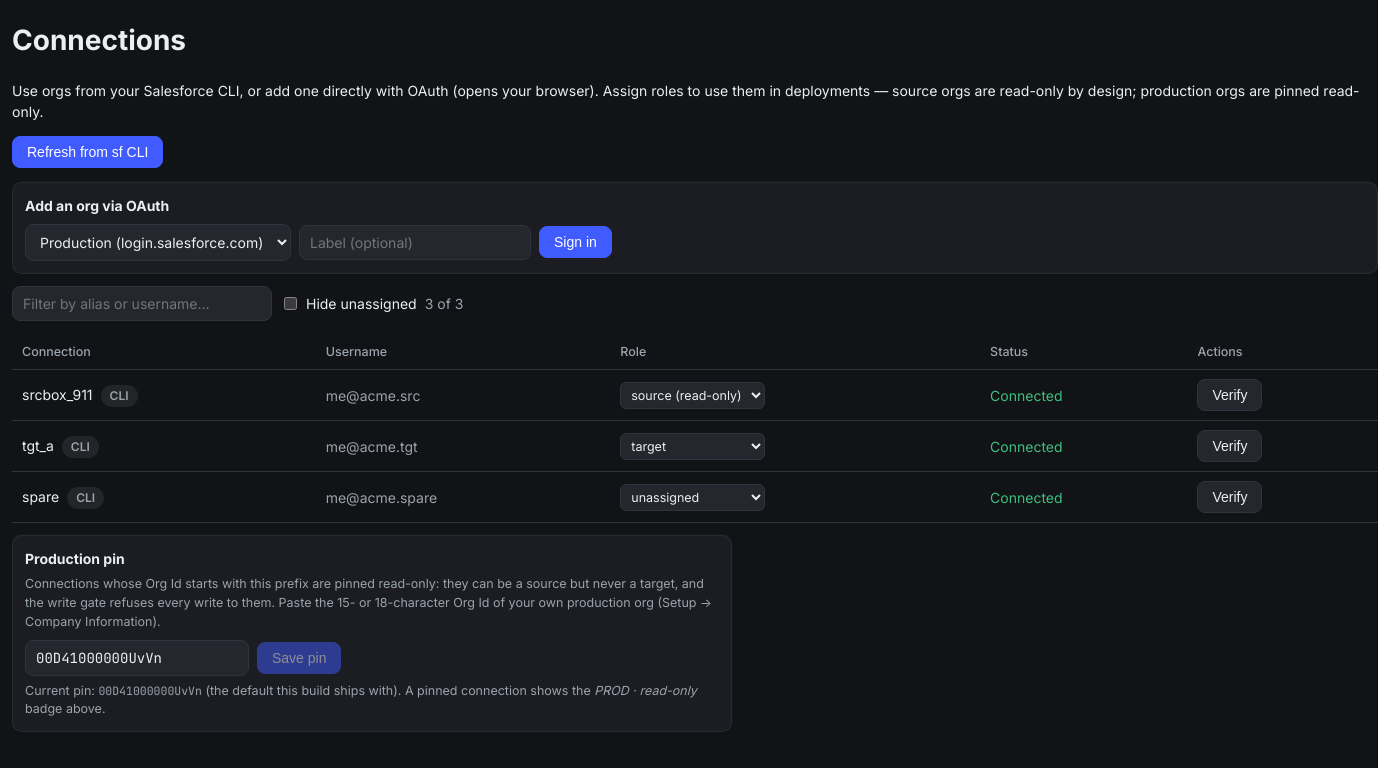
Test: Connections when the Salesforce CLI is missing › filters the list by alias or username and can hide unassigned rows
Check: the text "spare" is shown, box [22, 488, 59, 505]
Check: the text "3 of 3" is shown, box [425, 292, 463, 314]
Type "acme.tgt" into the search field named "Filter connections" at (142, 303), box [12, 286, 272, 320]
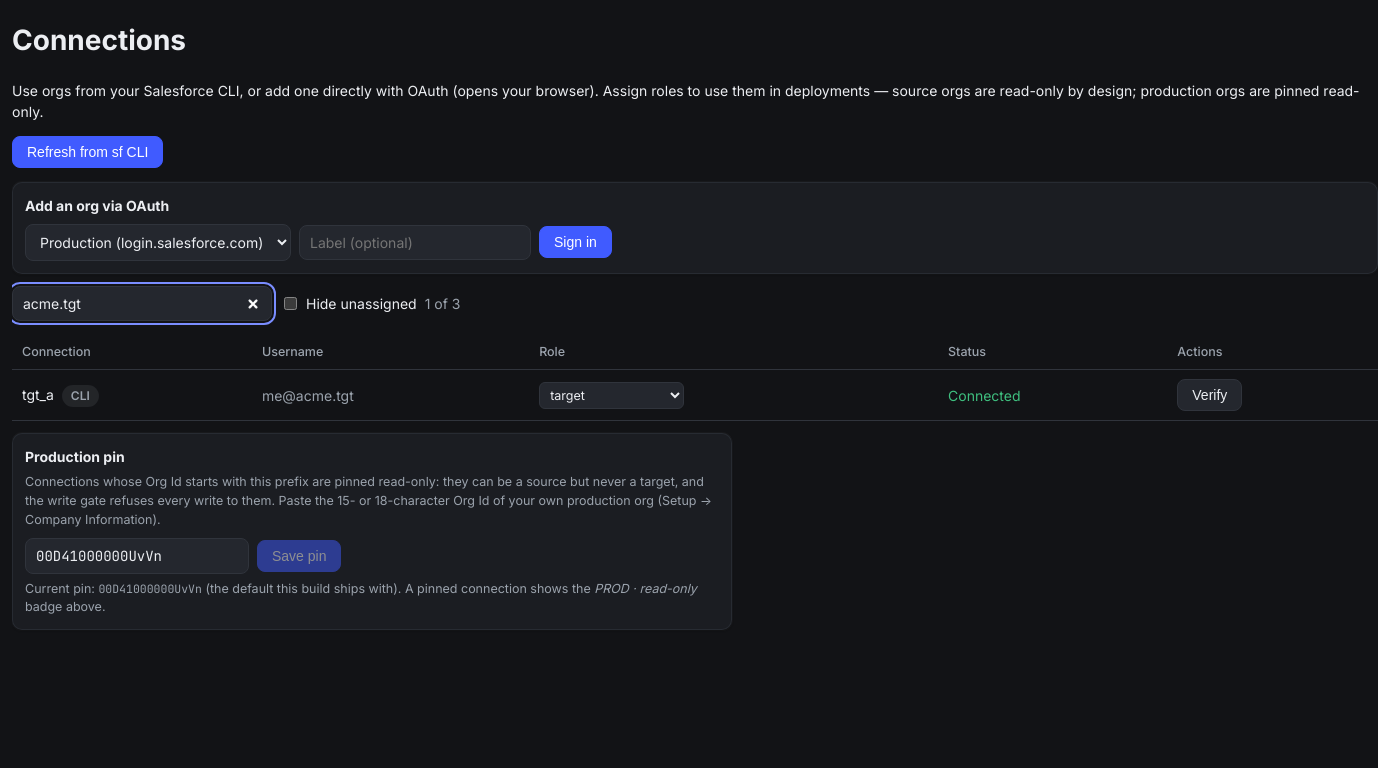
Check: the text "1 of 3" is shown, box [425, 292, 460, 314]
Check: the text "spare" is gone
Clear the search field named "Filter connections" at (142, 303), box [12, 286, 272, 320]
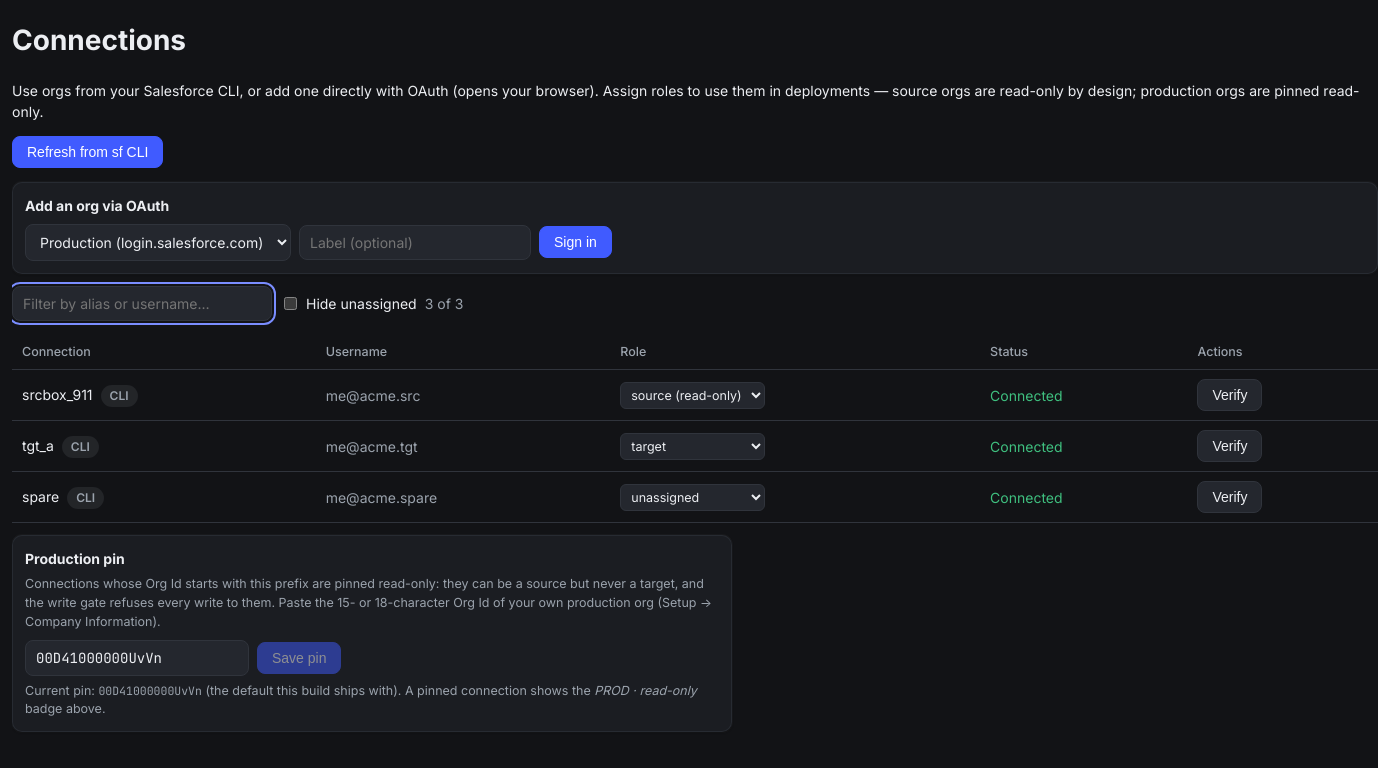
Click the checkbox labelled "Hide unassigned" at (290, 303), box [284, 296, 297, 310]
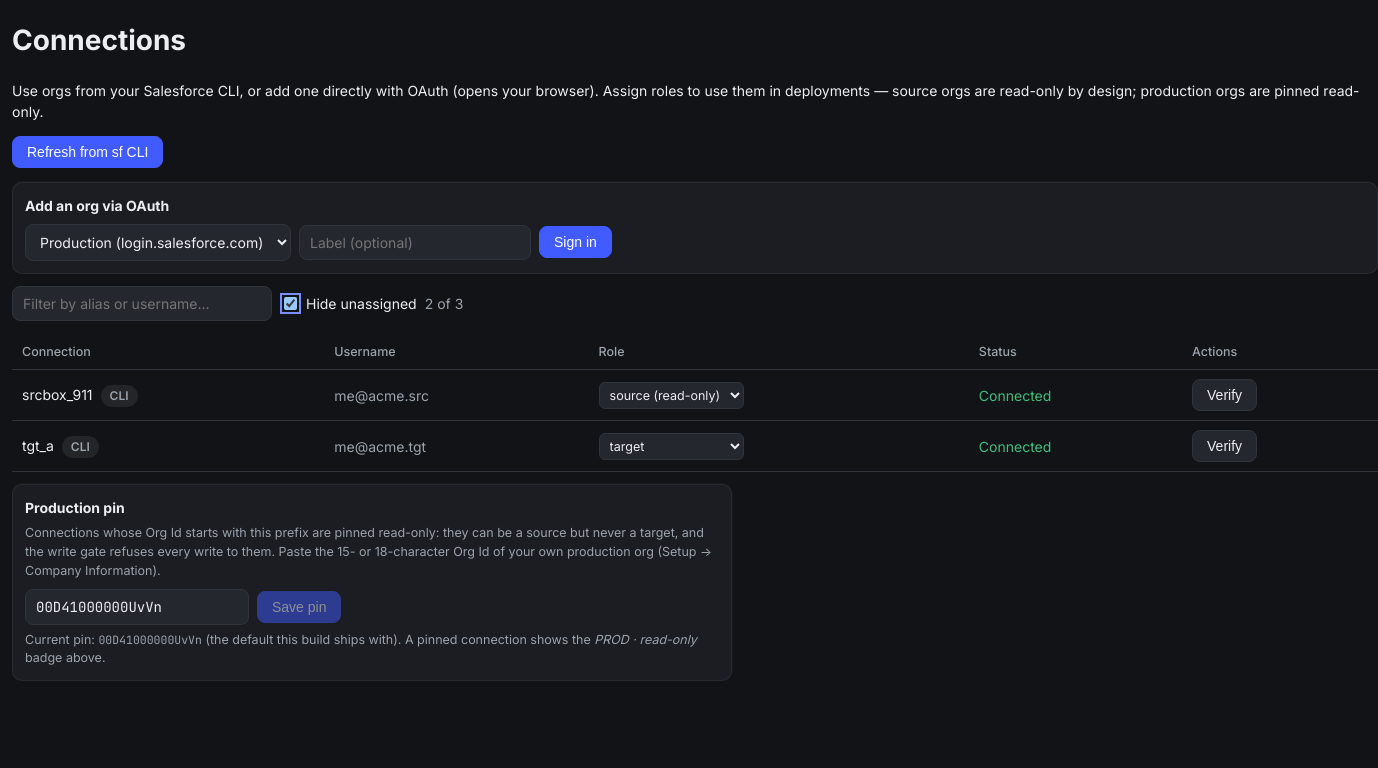
Check: the text "2 of 3" is shown, box [425, 292, 463, 314]
Check: the text "spare" is gone
